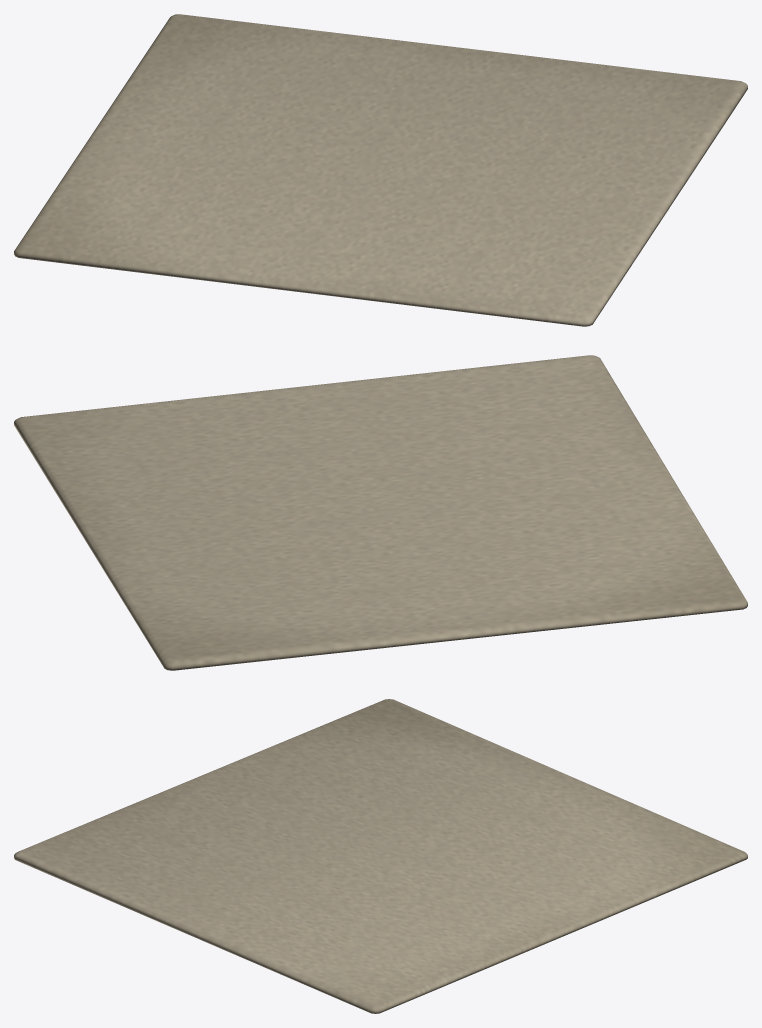
File: EE_Carpet_03.gltf
3 views of the same model, one above another, from view 1: azimuth 30°, elevation 25°; view 2: azimuth 150°, elevation 25°; view 3: azimuth 270°, elevation 25° (orthographic). The views are drawn at different scales.
Visible parts, largest first — view 1: EE_Carpet_03.001; view 2: EE_Carpet_03.001; view 3: EE_Carpet_03.001.
Boxes of the visible parts, x1,y1,x2,y2 form: EE_Carpet_03.001: (14, 14, 747, 326); EE_Carpet_03.001: (14, 355, 747, 670); EE_Carpet_03.001: (14, 699, 747, 1013).
Size of what is drawn, in the model's own units: 2.5 by 0.0255 by 2.5.
1 material, 1 textured.
